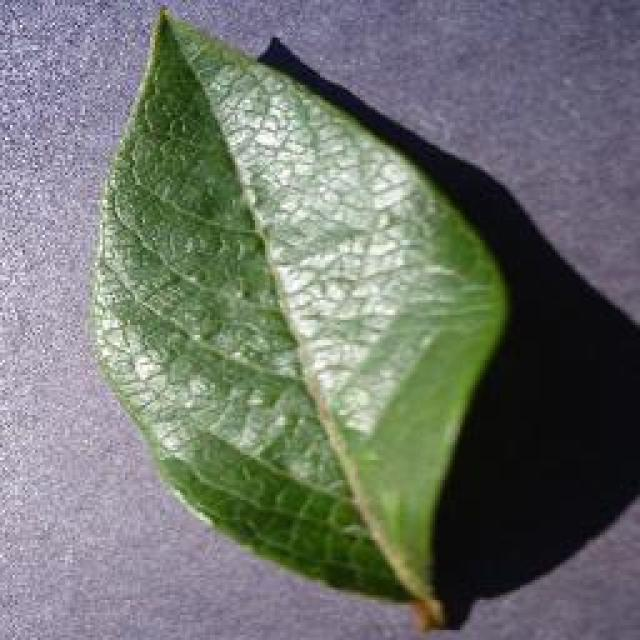Blu_healthy: (107, 135, 465, 511)
